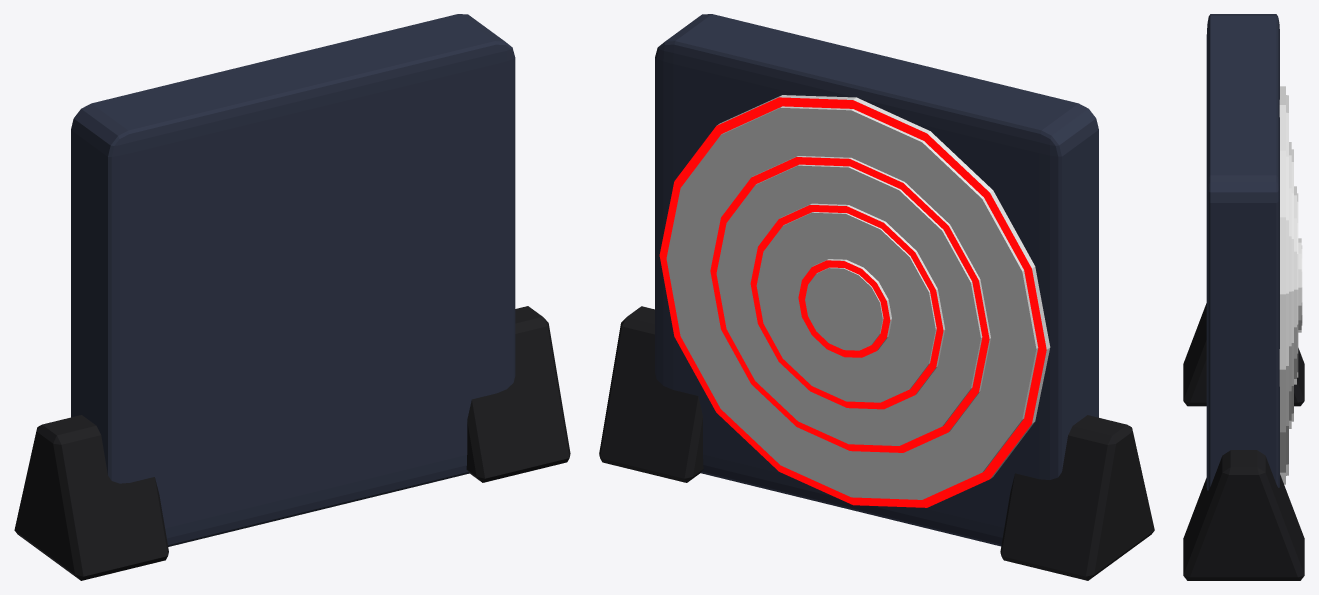
The model's file is target.fbx.
The picture shows the model from 3 angles, left to right: view 1: azimuth 30°, elevation 25°; view 2: azimuth 150°, elevation 25°; view 3: azimuth 270°, elevation 25°; orthographic projection. The views are drawn at different scales.
Parts seen in each view (by area): view 1: Cube.020; view 2: Cube.020; view 3: Cube.020.
Part boxes in pixels (x1=…): Cube.020: x1=14, y1=14, x2=570, y2=580; Cube.020: x1=599, y1=14, x2=1154, y2=580; Cube.020: x1=1183, y1=14, x2=1304, y2=580.
Bounding box in the file's own units: 93.04 × 390 × 321.
